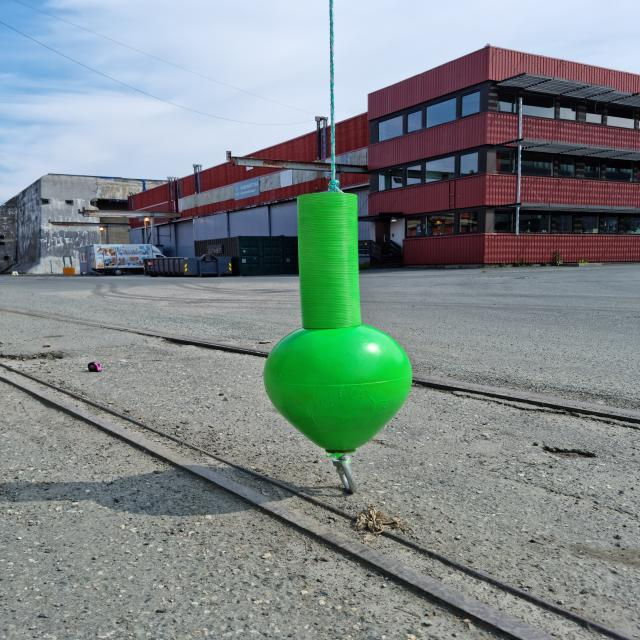green: (265, 192, 413, 452)
